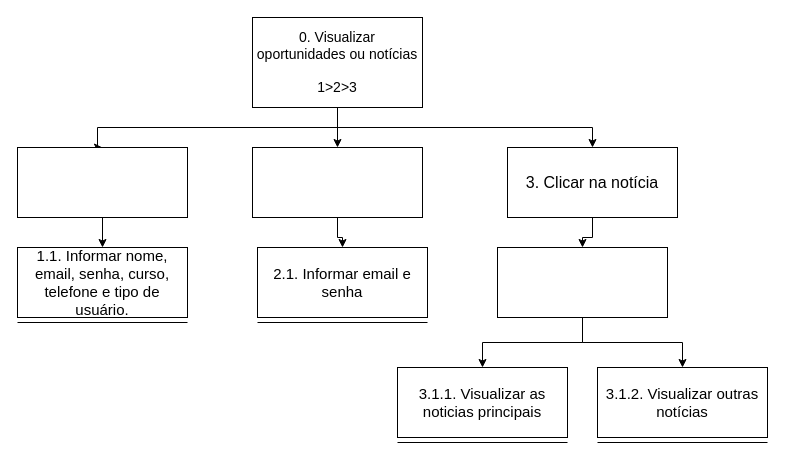
The diagram is 785 pixels wide and 465 high, and some of its shapes have lost their labels. The shapes that lost their labels are listed below. From the top down, each one's centre as x and y in pixels, then its label:
At [102,182]: "1. Realizar cadastro".
At [337,182]: "2. Fazer login".
At [582,282]: "3.1. Acessar a seção de notícias 3.1.1 / 3.1.2".
